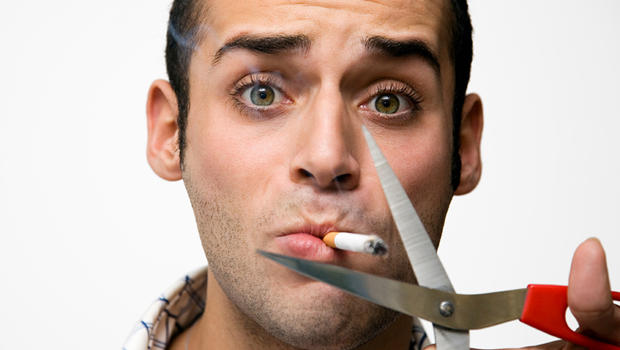cigarette: (319, 216, 395, 266)
